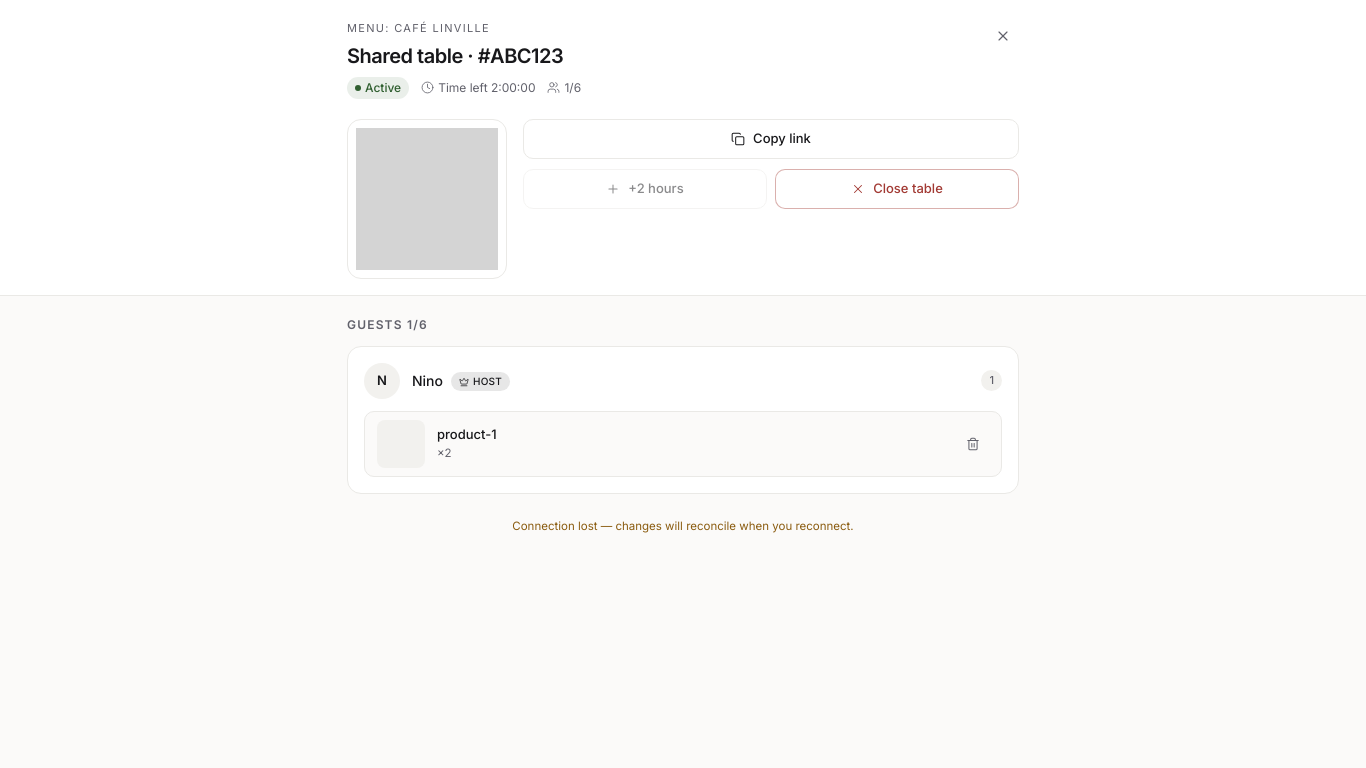
it: TableHostView reconcile vs optimistic mutations › does not resurrect a removed selection from a poll started during DELETE
Click the button named "Remove": (973,444) [957,428,989,460]
Wait 2000 ms
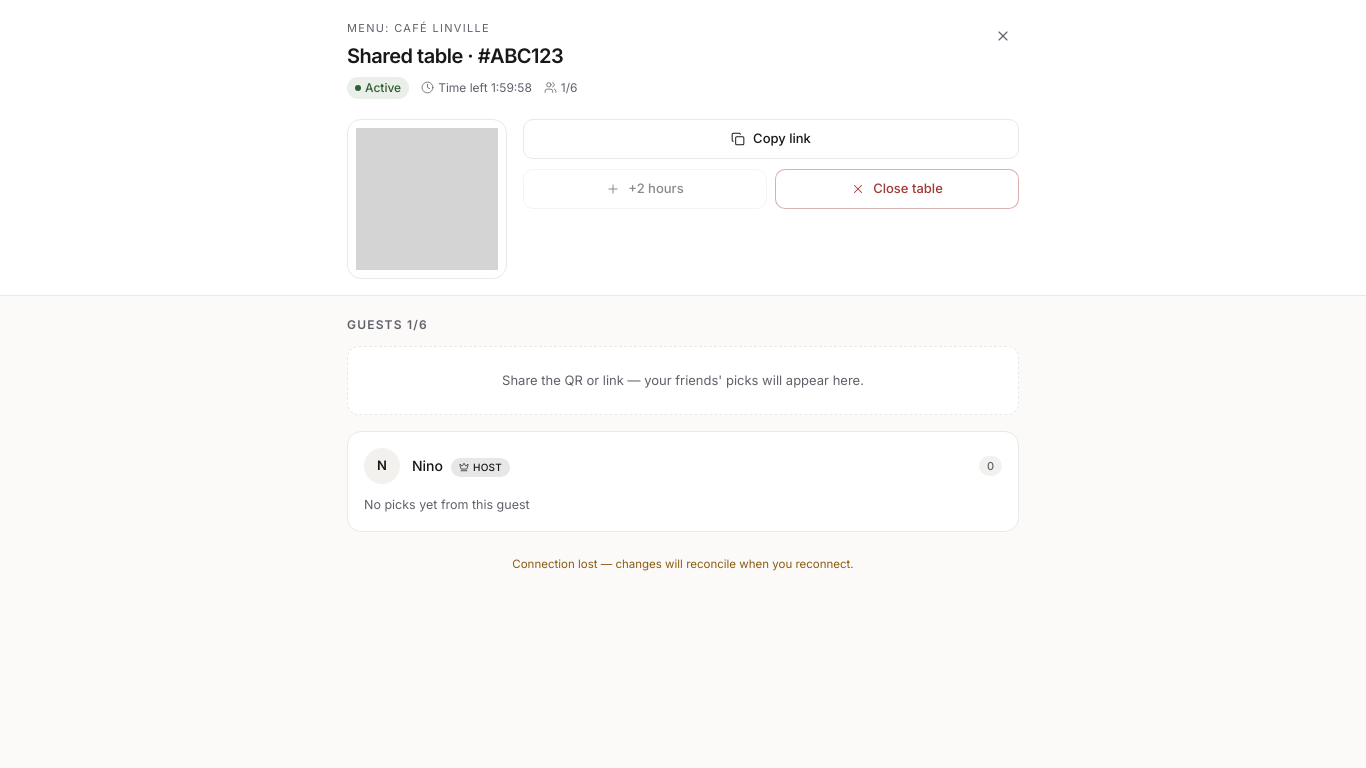
Expected: no list items with test id "public-table-host-selection-row" are shown
